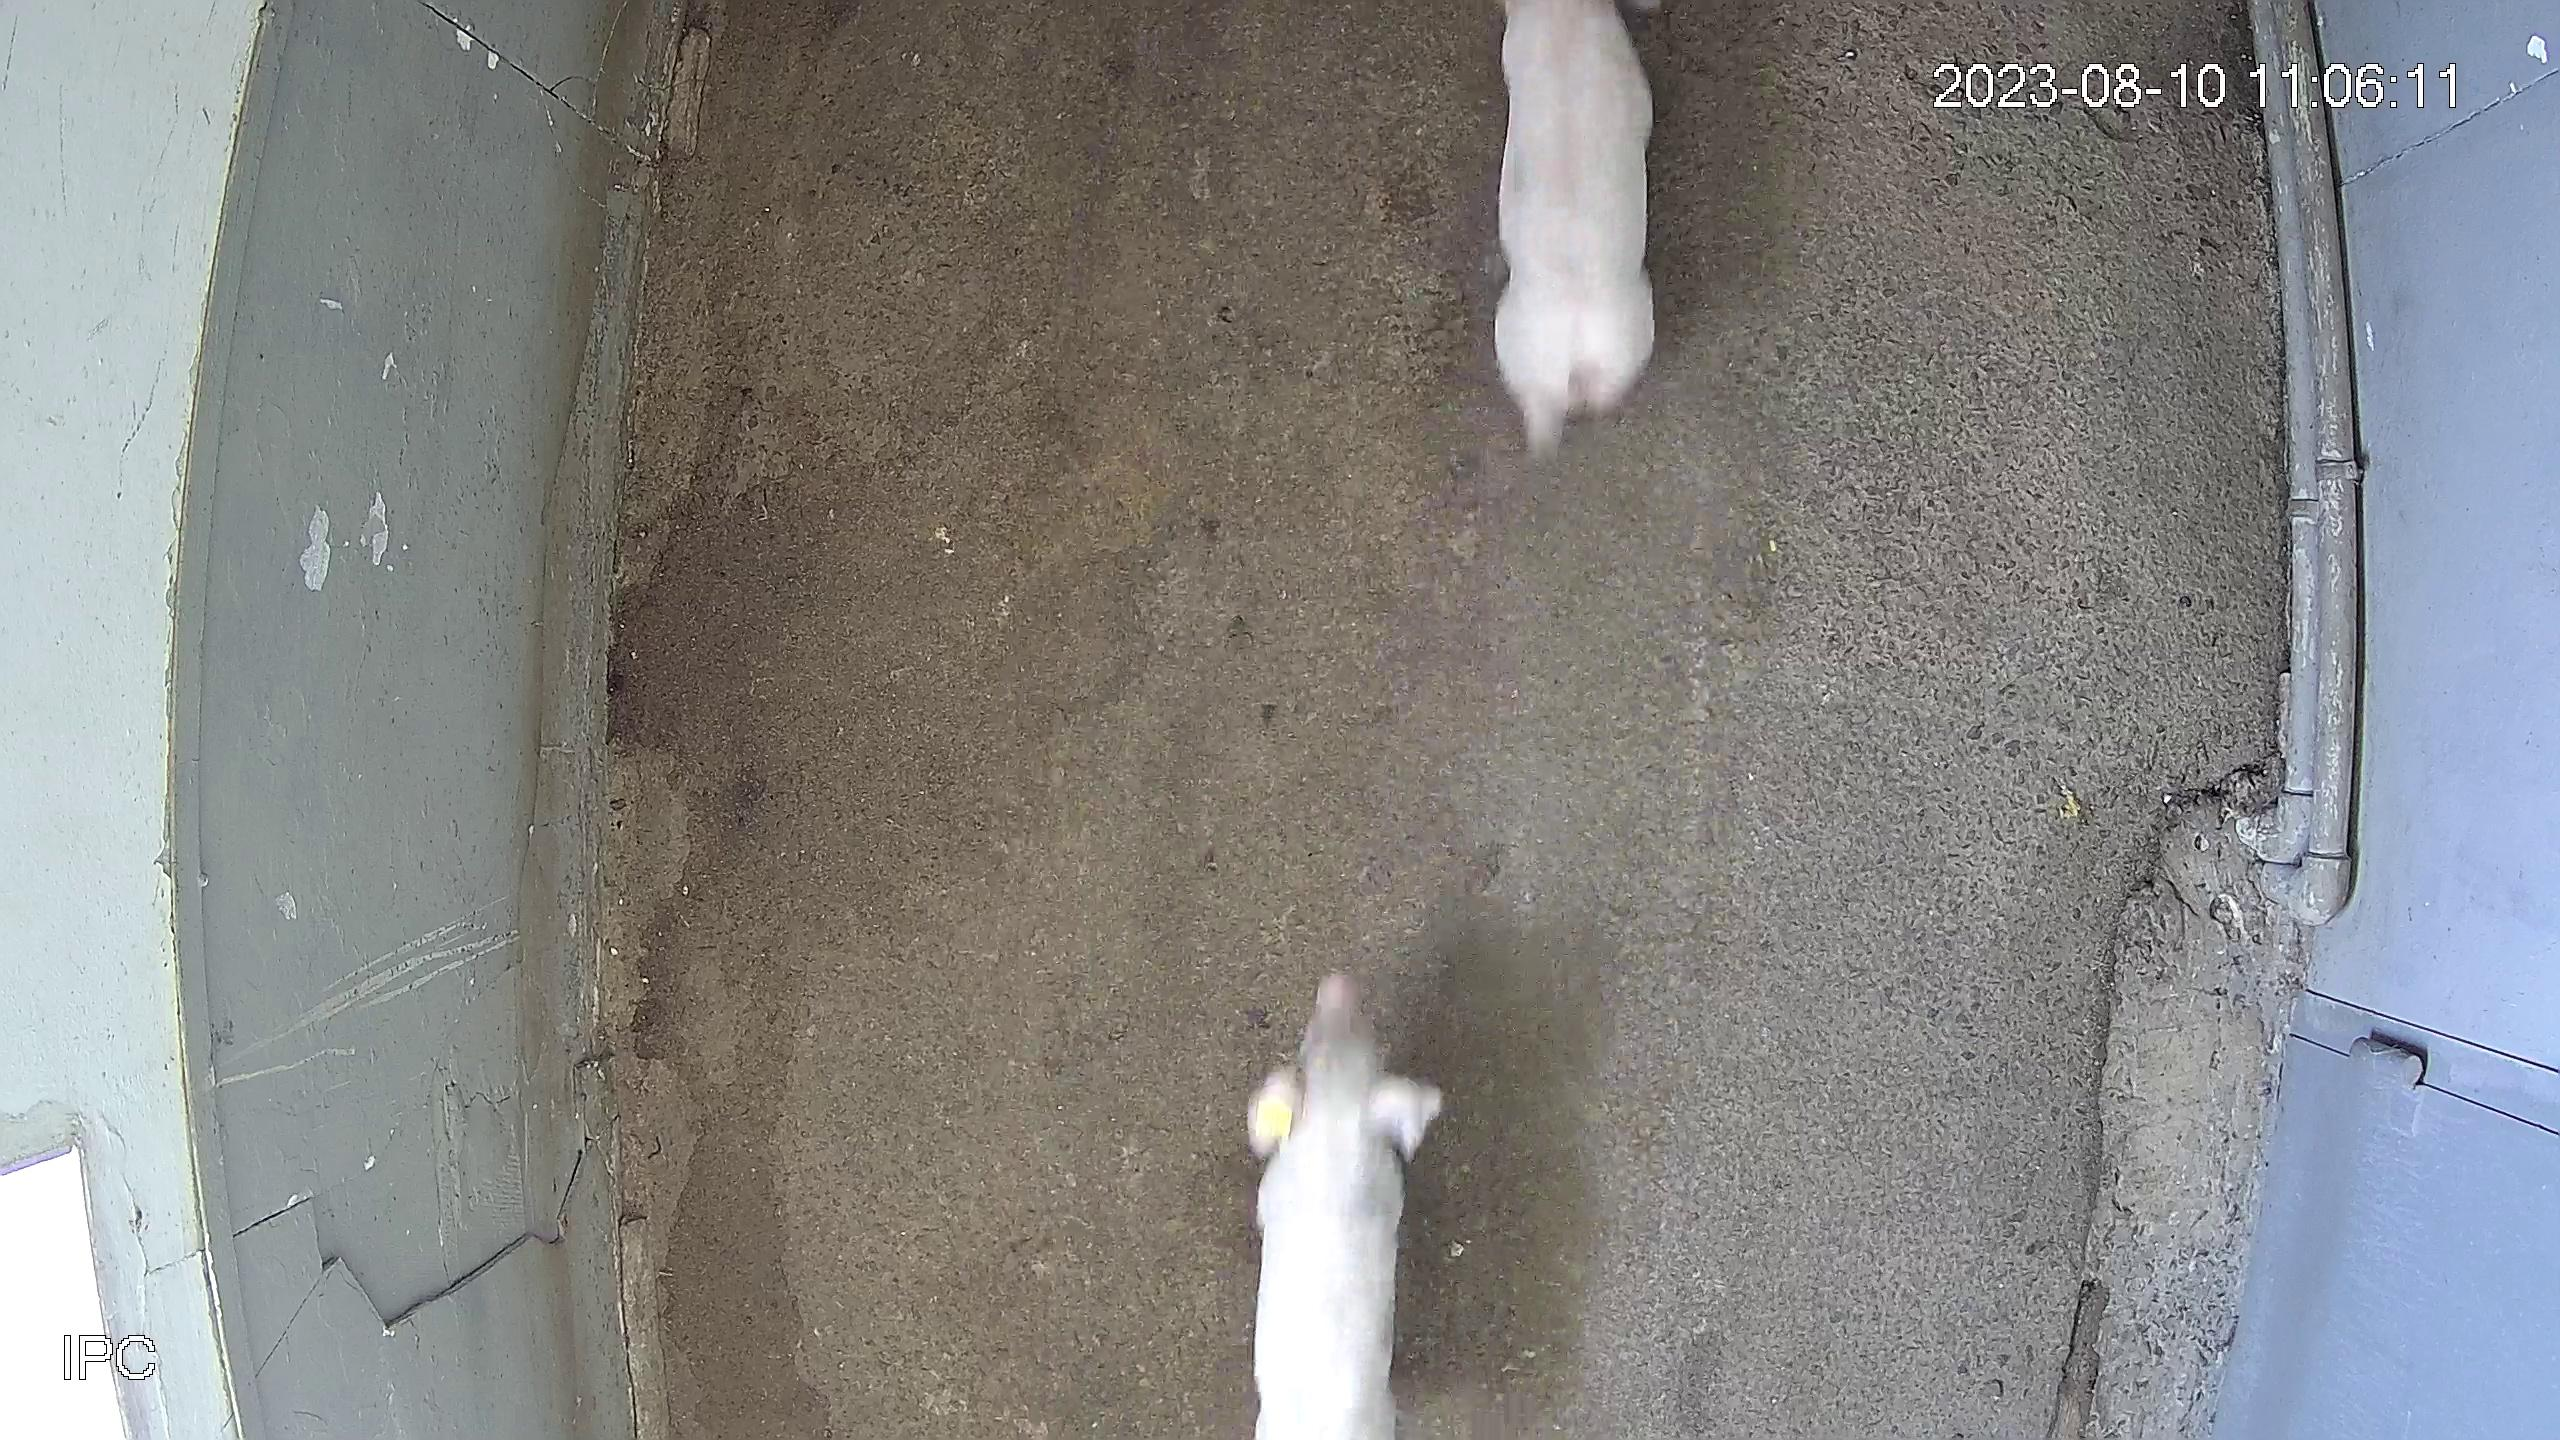Pig: (1248, 972, 1442, 1440), (1496, 0, 1655, 454)
